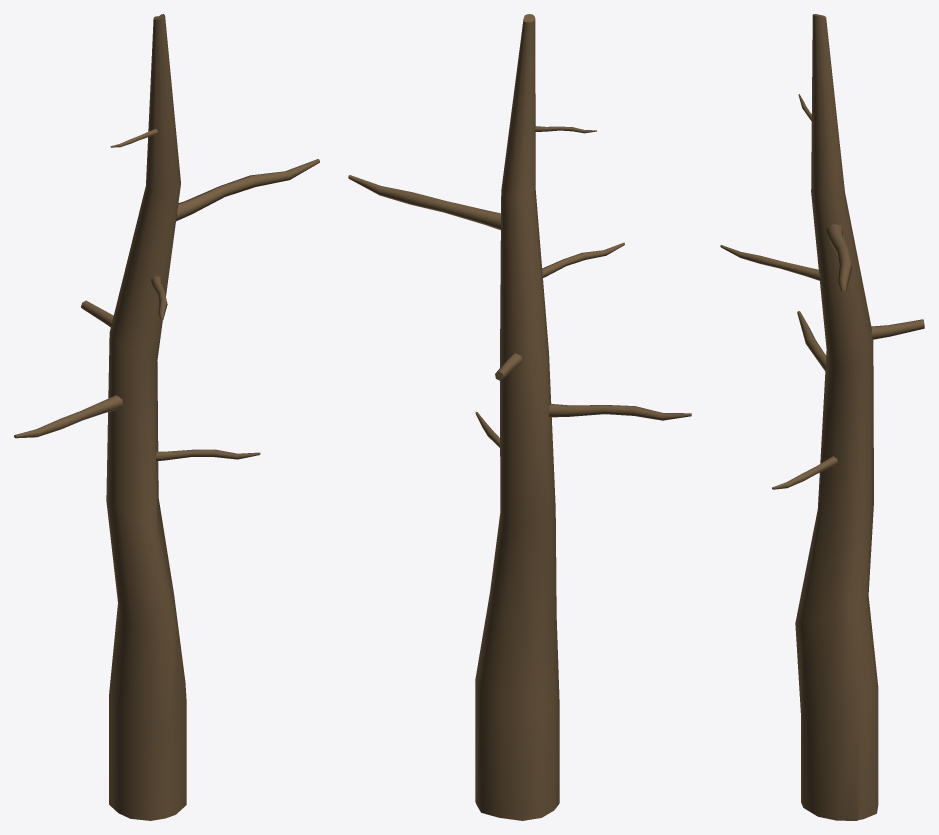
The model's file is tree ded 2.fbx.
3 renders of one model, left to right at view 1: azimuth 30°, elevation 25°; view 2: azimuth 150°, elevation 25°; view 3: azimuth 270°, elevation 25°, orthographic.
Parts seen in each view (by area): view 1: Vert.004; view 2: Vert.004; view 3: Vert.004.
Boxes of the visible parts, x1,y1,x2,y2 form: Vert.004: [14, 14, 319, 820]; Vert.004: [348, 14, 691, 820]; Vert.004: [720, 14, 924, 820].
Bounding box in the file's own units: 260 × 604 × 142.
